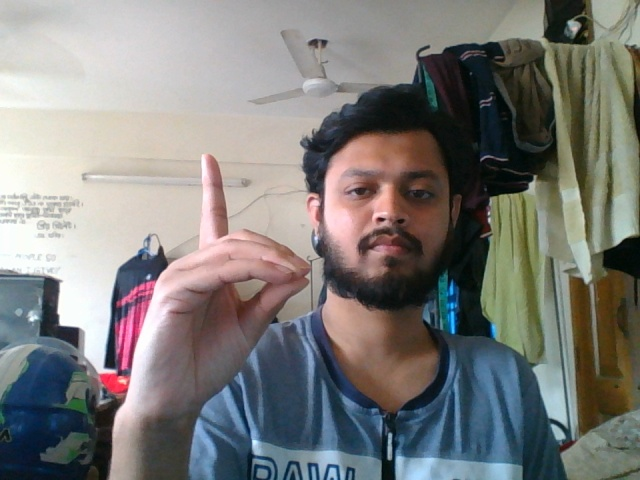dha: (119, 149, 319, 450)
